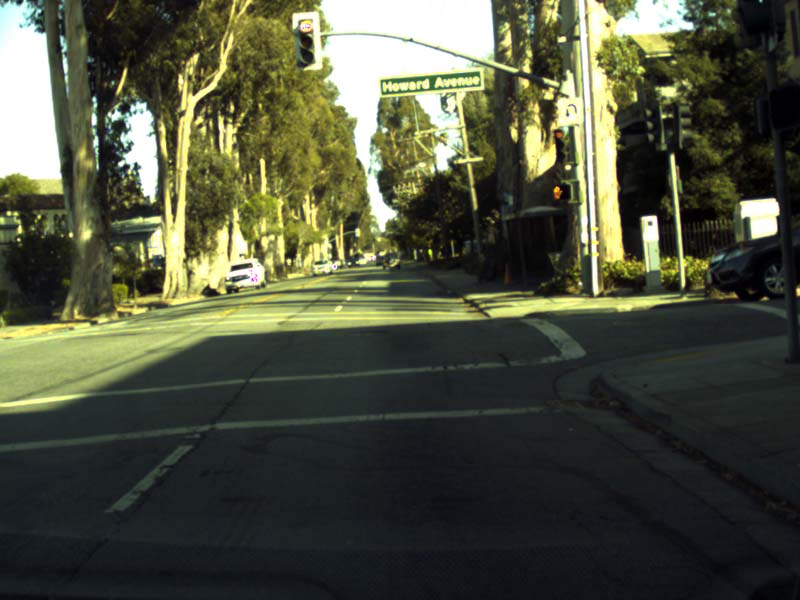Red: (554, 128, 566, 163)
